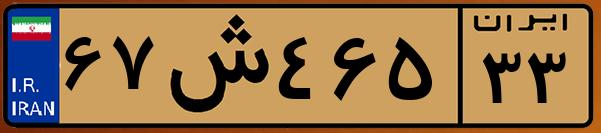3: (475, 38, 525, 113), (525, 38, 570, 115)
4: (270, 28, 330, 110)
5: (385, 28, 445, 110)
6: (330, 28, 385, 110), (57, 26, 110, 100)
7: (110, 28, 158, 98)
ش: (158, 12, 270, 120)
